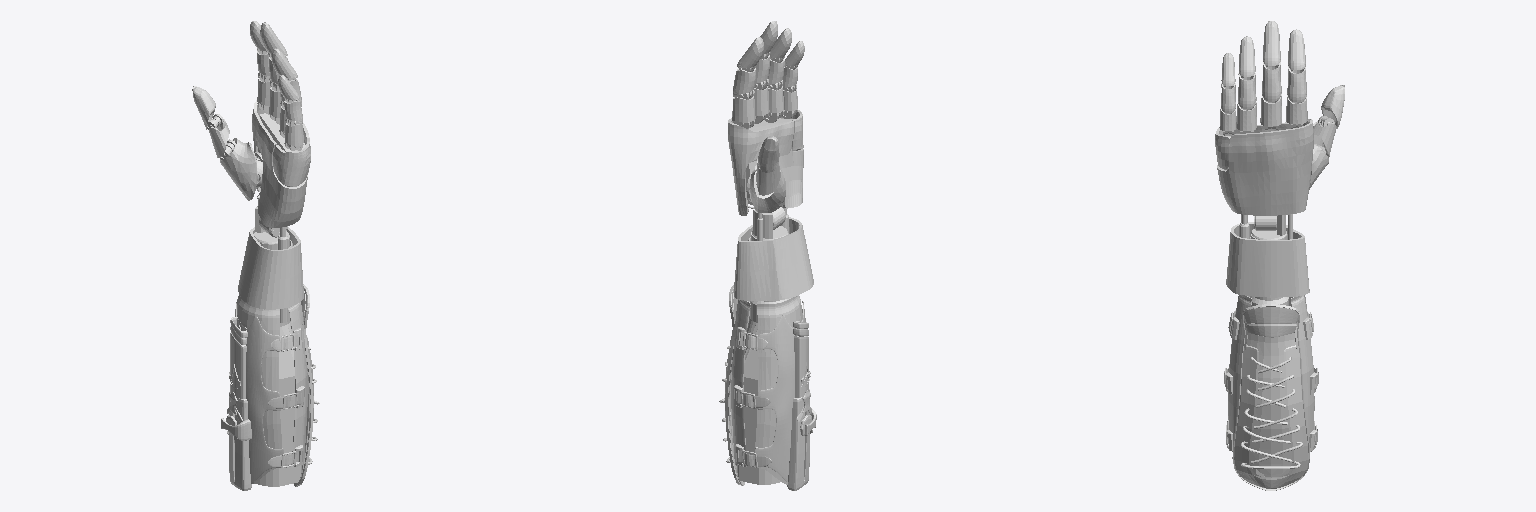
robot.urdf — handIA:
<?xml version = "1.0"?>
<robot name = "handIA">

    <material name="grey">
        <color rgba="0.9 0.9 0.9 1"/>
    </material>

    <!-- <gazebo>
        <plugin name="ros_control" filename="libgazebo_ros2_control.so"/>
    </gazebo> -->

    <gazebo>
        <plugin filename="gz-sim-joint-state-publisher-system"
        name="gz::sim::systems::JointStatePublisher">
        <topic>joint_states</topic>
        <joint_name>blade_to_arm</joint_name>
        <joint_name>f1_to_hand</joint_name>
        <joint_name>f2_to_hand</joint_name>
        <joint_name>f3_to_hand</joint_name>
        <joint_name>f4_to_hand</joint_name>
        <joint_name>f5_to_hand</joint_name>
        </plugin>
        <plugin filename="gz-sim-joint-position-controller-system" name="gz::sim::systems::JointPositionController">
            <joint_name>f1_to_hand</joint_name>
            <topic>f1</topic>
            <p_gain>1</p_gain>
            <i_gain>0.1</i_gain>
            <d_gain>0.01</d_gain>
            <i_max>1</i_max>
            <i_min>-1</i_min>
            <cmd_max>1000</cmd_max>
            <cmd_min>-1000</cmd_min>
        </plugin>
        <plugin filename="gz-sim-joint-position-controller-system" name="gz::sim::systems::JointPositionController">
            <joint_name>f2_to_hand</joint_name>
            <topic>f2</topic>
            <p_gain>1</p_gain>
            <i_gain>0.1</i_gain>
            <d_gain>0.01</d_gain>
            <i_max>1</i_max>
            <i_min>-1</i_min>
            <cmd_max>1000</cmd_max>
            <cmd_min>-1000</cmd_min>
        </plugin>
        <plugin filename="gz-sim-joint-position-controller-system" name="gz::sim::systems::JointPositionController">
            <joint_name>f3_to_hand</joint_name>
            <topic>f3</topic>
            <p_gain>1</p_gain>
            <i_gain>0.1</i_gain>
            <d_gain>0.01</d_gain>
            <i_max>1</i_max>
            <i_min>-1</i_min>
            <cmd_max>1000</cmd_max>
            <cmd_min>-1000</cmd_min>
        </plugin>
        <plugin filename="gz-sim-joint-position-controller-system" name="gz::sim::systems::JointPositionController">
            <joint_name>f4_to_hand</joint_name>
            <topic>f4</topic>
            <p_gain>1</p_gain>
            <i_gain>0.1</i_gain>
            <d_gain>0.01</d_gain>
            <i_max>1</i_max>
            <i_min>-1</i_min>
            <cmd_max>1000</cmd_max>
            <cmd_min>-1000</cmd_min>
        </plugin>
        <plugin filename="gz-sim-joint-position-controller-system" name="gz::sim::systems::JointPositionController">
            <joint_name>f5_to_hand</joint_name>
            <topic>f5</topic>
            <p_gain>1</p_gain>
            <i_gain>0.1</i_gain>
            <d_gain>0.01</d_gain>
            <i_max>1</i_max>
            <i_min>-1</i_min>
            <cmd_max>3</cmd_max>
            <cmd_min>-3</cmd_min>
        </plugin>

    </gazebo>


    <!-- //////////////////  arm   //////////////////-->
    <link name = "arm">
        <visual>
            <material name="grey"/>
            <geometry>
                <mesh filename = "package://roshandia_pkg/urdf/mesh/arm.stl"/>
            </geometry>
        </visual>
        <collision>
            <geometry>
                <mesh filename = "package://roshandia_pkg/urdf/mesh/arm.stl"/>
              </geometry>
        </collision>
        <inertial>
            <mass value="0.5"/>
            <origin xyz="0 0 0" rpy="0 0 0"/>
            <inertia
                ixx="0.001" ixy="0.0" ixz="0.0"
                iyy="0.001" iyz="0.0" izz="0.001"/>
        </inertial>
    </link>
    <!-- //////////////////  hand   //////////////////-->
    <link name ="hand">
        <visual>
            <material name="grey"/>
             <geometry> 
                <mesh filename = "package://roshandia_pkg/urdf/mesh/hand.stl"/>
             </geometry>
        </visual>
        <collision>
            <geometry> 
                <mesh filename = "package://roshandia_pkg/urdf/mesh/hand.stl"/>
             </geometry>
        </collision>
        <inertial>
            <mass value="0.5"/>
            <origin xyz="0 0 0" rpy="0 0 0"/>
            <inertia
                ixx="0.001" ixy="0.0" ixz="0.0"
                iyy="0.001" iyz="0.0" izz="0.001"/>
        </inertial>
    </link>

    <joint name = "hand_to_arm" type="fixed">
        <parent link="arm"/>
        <child link="hand"/>
        <origin xyz="0 0 4.01612"/>
    </joint>
    <!-- //////////////////  blade   //////////////////-->
    <link name = "blade">
        <visual>
            <material name="grey"/>
             <geometry> 
                <mesh filename = "package://roshandia_pkg/urdf/mesh/blade.stl"/>
             </geometry>
        </visual>
        <collision>
            <geometry> 
                <mesh filename = "package://roshandia_pkg/urdf/mesh/blade.stl"/>
             </geometry>
        </collision>
        <inertial>
            <mass value="0.5"/>
            <origin xyz="0 0 0" rpy="0 0 0"/>
            <inertia
                ixx="0.001" ixy="0.0" ixz="0.0"
                iyy="0.001" iyz="0.0" izz="0.001"/>
        </inertial>
    </link>

    <joint name="blade_to_arm" type="prismatic">
        <parent link="arm"/>
        <child link="blade"/>
        <origin xyz="-0.836728 0.010775 1.07994"/>
        <axis xyz="0 0 1"/>
        <limit effort="100" velocity="0.2" upper="2.7037" lower="0"/>
    </joint>
    <!-- //////////////////  finger 1   //////////////////-->
    <link name = "finger1">
        <visual>
            <material name="grey"/>
            <geometry> 
                <mesh filename = "package://roshandia_pkg/urdf/mesh/finger1.stl"/>
            </geometry>
        </visual>
        <collision>
            <geometry> 
                <mesh filename = "package://roshandia_pkg/urdf/mesh/finger1.stl"/>
             </geometry>
        </collision>
        <inertial>
            <mass value="0.5"/>
            <origin xyz="0 0 0" rpy="0 0 0"/>
            <inertia
                ixx="0.001" ixy="0.0" ixz="0.0"
                iyy="0.001" iyz="0.0" izz="0.001"/>
        </inertial>
    </link>

    <joint name="f1_to_hand" type="revolute">
        <parent link="hand"/>
        <child link="finger1"/>
        <origin xyz="0.001181 0.472818 3.3364"/>
        <axis xyz="0.707 0.707 0.707"/>
        <limit effort="100" velocity="2" lower="-1" upper="1"/>
    </joint>
    
    <!-- //////////////////  finger 2   //////////////////-->
    <link name = "finger2">
        <visual>
            <material name="grey"/>
             <geometry> 
                <mesh filename = "package://roshandia_pkg/urdf/mesh/finger2.stl"/>
             </geometry>
        </visual>
        <collision>
            <geometry> 
                <mesh filename = "package://roshandia_pkg/urdf/mesh/finger2.stl"/>
             </geometry>
        </collision>
        <inertial>
            <mass value="0.5"/>
            <origin xyz="0 0 0" rpy="0 0 0"/>
            <inertia
                ixx="0.001" ixy="0.0" ixz="0.0"
                iyy="0.001" iyz="0.0" izz="0.001"/>
        </inertial>
    </link>

    <joint name="f2_to_hand" type="revolute">
        <parent link="hand"/>
        <child link="finger2"/>
        <origin xyz="0.285932 0.615642 4.82351"/>
        <axis xyz="0 1 0"/>
        <limit effort="100" velocity="2" lower="-1.222" upper="0"/>
    </joint>
    <!-- //////////////////  finger 3   //////////////////-->
    <link name = "finger3">
        <visual>
            <material name="grey"/>
             <geometry> 
                <mesh filename = "package://roshandia_pkg/urdf/mesh/finger3.stl"/>
             </geometry>
        </visual>
        <collision>
            <geometry> 
                <mesh filename = "package://roshandia_pkg/urdf/mesh/finger3.stl"/>
             </geometry>
        </collision>
        <inertial>
            <mass value="0.5"/>
            <origin xyz="0 0 0" rpy="0 0 0"/>
            <inertia
                ixx="0.001" ixy="0.0" ixz="0.0"
                iyy="0.001" iyz="0.0" izz="0.001"/>
        </inertial>
    </link>

    <joint name="f3_to_hand" type="revolute">
        <parent link="hand"/>
        <child link="finger3"/>
        <origin xyz="0.260113 0.054977 4.73802"/>
        <axis xyz="0 1 0"/>
        <limit effort="100" velocity="2" lower="-1.222" upper="0"/>
    </joint>
    <!-- //////////////////  finger 4   //////////////////-->
    <link name = "finger4">
        <visual>
            <material name="grey"/>
             <geometry> 
                <mesh filename = "package://roshandia_pkg/urdf/mesh/finger4.stl"/>
             </geometry>
        </visual>
        <collision>
            <geometry> 
                <mesh filename = "package://roshandia_pkg/urdf/mesh/finger4.stl"/>
             </geometry>
        </collision>
        <inertial>
            <mass value="0.5"/>
            <origin xyz="0 0 0" rpy="0 0 0"/>
            <inertia
                ixx="0.001" ixy="0.0" ixz="0.0"
                iyy="0.001" iyz="0.0" izz="0.001"/>
        </inertial>
    </link>

    <joint name="f4_to_hand" type="revolute">
        <parent link="hand"/>
        <child link="finger4"/>
        <origin xyz="0.2049 -0.488003 4.61141"/>
        <axis xyz="0 1 0"/>
        <limit effort="100" velocity="0.5" lower="-1.222" upper="0"/>
    </joint>
    <!-- //////////////////  finger 5   //////////////////-->
    <link name = "finger5">
        <visual>
            <material name="grey"/>
             <geometry> 
                <mesh filename = "package://roshandia_pkg/urdf/mesh/finger5.stl"/>
             </geometry>
        </visual>
        <collision>
            <geometry> 
                <mesh filename = "package://roshandia_pkg/urdf/mesh/finger5.stl"/>
             </geometry>
        </collision>
        <inertial>
            <mass value="0.5"/>
            <origin xyz="0 0 0" rpy="0 0 0"/>
            <inertia
                ixx="0.001" ixy="0.0" ixz="0.0"
                iyy="0.001" iyz="0.0" izz="0.001"/>
        </inertial>
    </link>

    <joint name="f5_to_hand" type="revolute">
        <parent link="hand"/>
        <child link="finger5"/>
        <origin xyz="0.046572 -0.898537 4.52963"/>
        <axis xyz="0 1 0"/>
        <limit effort="100" velocity="0.5" lower="-1.222" upper="0"/>
    </joint>

<gazebo>
    <joint name='World' type='fixed'>
        <child>arm</child>
        <parent>world</parent>
        <axis>
          <xyz>0 0 1</xyz>
          <limit>
            <lower>-inf</lower>
            <upper>inf</upper>
            <effort>inf</effort>
            <velocity>inf</velocity>
            <stiffness>[number redacted]</stiffness>
            <dissipation>1</dissipation>
          </limit>
          <dynamics>
            <spring_reference>0</spring_reference>
            <spring_stiffness>0</spring_stiffness>
            <damping>0</damping>
            <friction>0</friction>
          </dynamics>
        </axis>
        <pose>0 0 0 0 0 0</pose>
      </joint>
    </gazebo>
</robot>

--- Render facts (derived) ---
3 views of the same robot in one strip: view 1: azimuth 30°, elevation 25°; view 2: azimuth 150°, elevation 25°; view 3: azimuth 270°, elevation 25° (orthographic).
Robot: handIA — 8 links, 7 joints (5 revolute, 1 prismatic, 1 fixed); root link arm; default pose: all joints at 0.
Links seen in each view (by area): view 1: arm, hand, finger1, finger5, finger3, finger2, finger4; view 2: arm, hand, finger1, finger2, finger4, finger3, finger5; view 3: arm, hand, finger3, finger2, finger1, finger4, finger5.
Boxes of the visible links, x1,y1,x2,y2 form: arm: (221,284,319,490); hand: (238,100,310,326); finger1: (192,86,262,200); finger5: (278,75,303,150); finger3: (260,22,288,124); finger2: (250,21,270,114); finger4: (272,48,301,137); arm: (719,285,816,490); hand: (728,110,813,322); finger1: (750,136,785,212); finger2: (732,37,763,128); finger4: (764,28,791,122); finger3: (754,21,777,123); finger5: (782,41,804,118); arm: (1224,295,1318,490); hand: (1215,119,1313,306); finger3: (1260,21,1281,130); finger2: (1286,29,1307,128); finger1: (1309,85,1344,189); finger4: (1236,36,1256,133); finger5: (1219,53,1236,135).
Size in the robot's own frame: 2.07 by 2.87 by 11.11 metres.
Meshes: 8 distinct files referenced, 8 mesh visuals loaded (8 binary STL).
